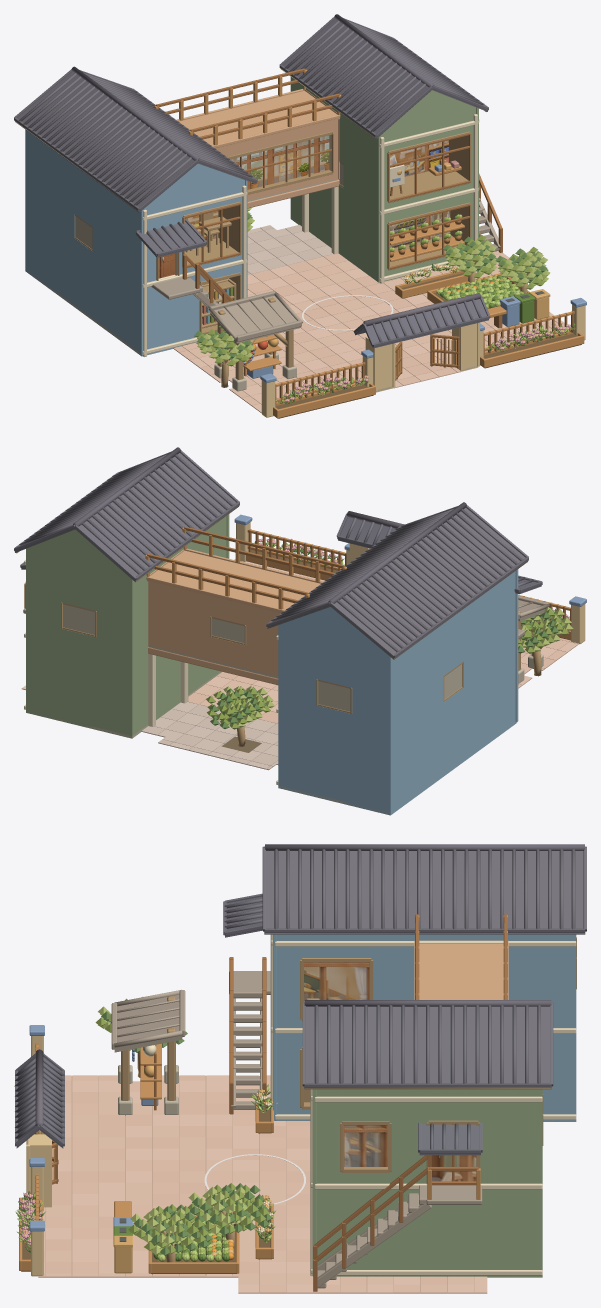
3 views of the same model, one above another, from view 1: azimuth 30°, elevation 25°; view 2: azimuth 150°, elevation 25°; view 3: azimuth 270°, elevation 25° (orthographic). The views are drawn at different scales.
Visible parts, largest first — view 1: SM_28_02_曲面屋顶, SM_28_01_建筑墙体, SM_28_06_景观设施, SM_28_04_门窗楼梯, SM_28_05_景观植物, SM_28_03_木构回廊; view 2: SM_28_01_建筑墙体, SM_28_02_曲面屋顶, SM_28_04_门窗楼梯, SM_28_06_景观设施, SM_28_05_景观植物, SM_28_03_木构回廊; view 3: SM_28_02_曲面屋顶, SM_28_01_建筑墙体, SM_28_06_景观设施, SM_28_04_门窗楼梯, SM_28_03_木构回廊, SM_28_05_景观植物.
Part boxes in pixels (x1,y1,x2,y2): SM_28_02_曲面屋顶: (14, 14, 490, 348); SM_28_01_建筑墙体: (25, 77, 478, 392); SM_28_06_景观设施: (173, 160, 564, 412); SM_28_04_门窗楼梯: (74, 68, 586, 417); SM_28_05_景观植物: (194, 207, 584, 418); SM_28_03_木构回廊: (140, 107, 479, 391); SM_28_01_建筑墙体: (26, 516, 516, 815); SM_28_02_曲面屋顶: (14, 447, 549, 659); SM_28_04_门窗楼梯: (23, 514, 586, 714); SM_28_06_景观设施: (21, 559, 578, 770); SM_28_05_景观植物: (206, 538, 573, 746); SM_28_03_木构回廊: (24, 514, 543, 784); SM_28_02_曲面屋顶: (15, 844, 586, 1155); SM_28_01_建筑墙体: (28, 934, 576, 1277); SM_28_06_景观设施: (38, 1043, 487, 1293); SM_28_04_门窗楼梯: (29, 914, 576, 1291); SM_28_03_木构回廊: (26, 934, 576, 1276); SM_28_05_景观植物: (14, 997, 277, 1274).
Size of the model in its own units: 11.07 by 5.2 by 10.96.
Materials: 52 (1 with a texture image).
